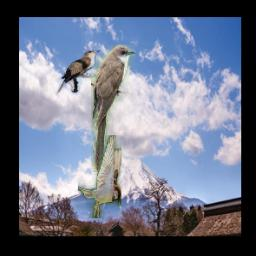Cuckoo: (92, 45, 136, 173), (55, 50, 100, 96)
Sparrow: (78, 136, 121, 219)
